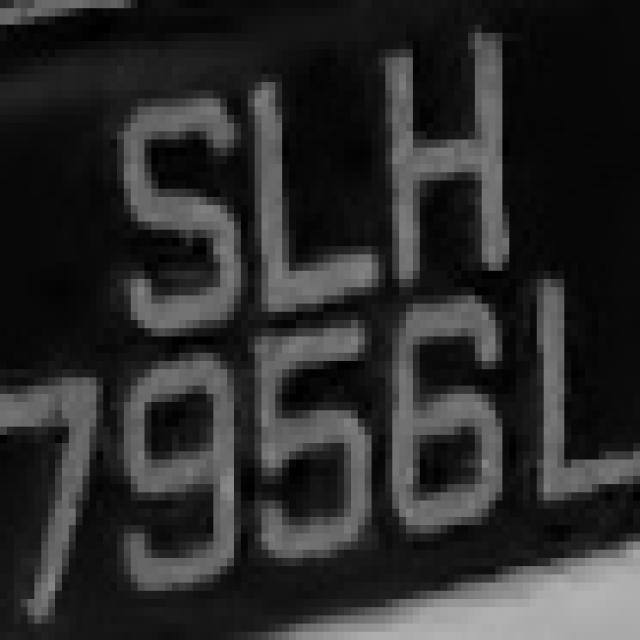5: (227, 296, 385, 574)
6: (386, 287, 510, 550)
7: (0, 344, 117, 624)
9: (103, 320, 248, 615)
H: (365, 33, 523, 295)
L: (214, 49, 386, 320), (502, 246, 633, 525)
S: (82, 49, 241, 345)
